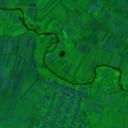alloviz: (58, 48, 66, 58)
